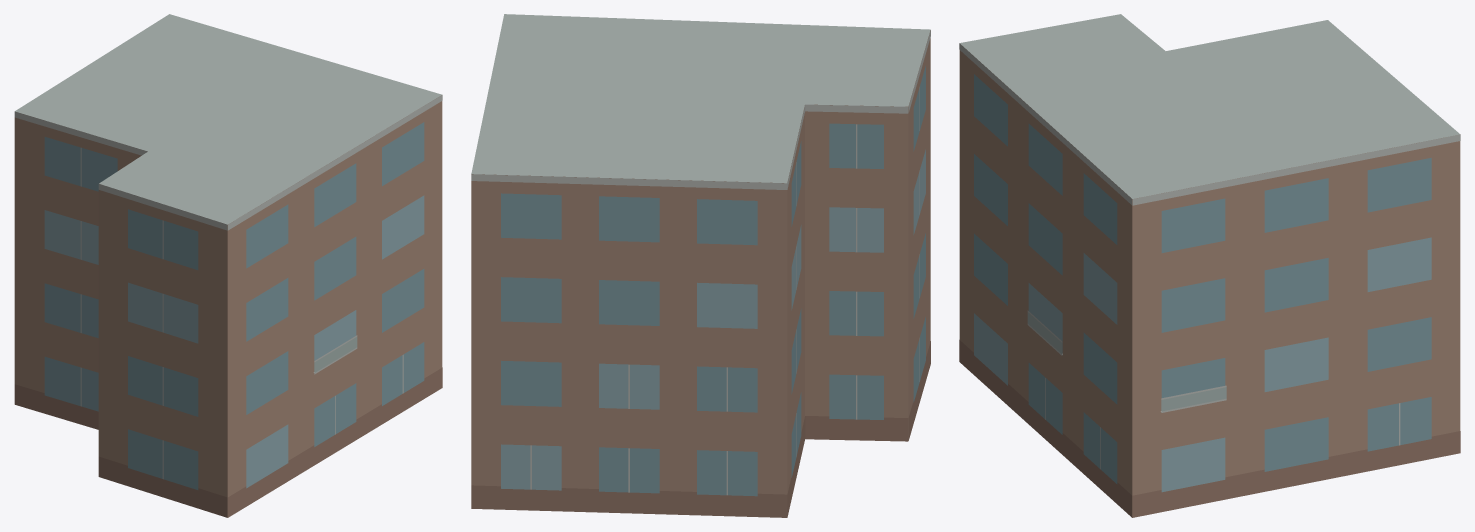
Rendered from survey-upis-32976505.glb.
3 views of the same model, side by side, from view 1: azimuth 30°, elevation 25°; view 2: azimuth 150°, elevation 25°; view 3: azimuth 270°, elevation 25° (orthographic). The views are drawn at different scales.
Parts seen in each view (by area): view 1: survey-upis-32976505.tmp; view 2: survey-upis-32976505.tmp; view 3: survey-upis-32976505.tmp.
Part boxes in pixels (x1=…): survey-upis-32976505.tmp: x1=14, y1=14, x2=442, y2=517; survey-upis-32976505.tmp: x1=471, y1=14, x2=930, y2=517; survey-upis-32976505.tmp: x1=959, y1=14, x2=1460, y2=517.
Size of the model in its own units: 14.7 by 11.8 by 16.82.
